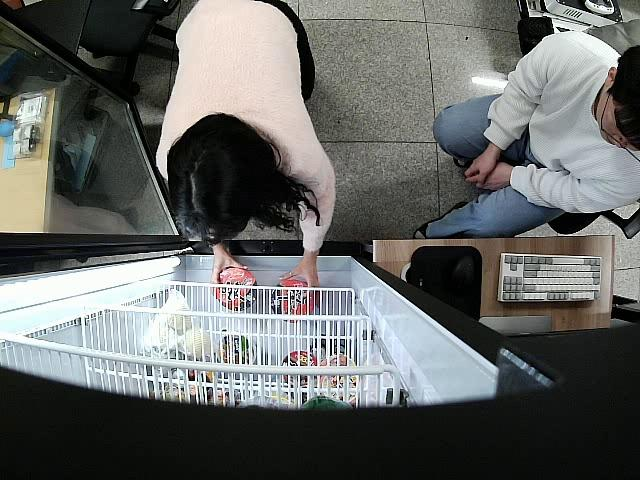00_hand: (209, 248, 248, 293), (279, 253, 318, 294)
01_shinRamen_L: (268, 279, 316, 323), (214, 267, 258, 311)
